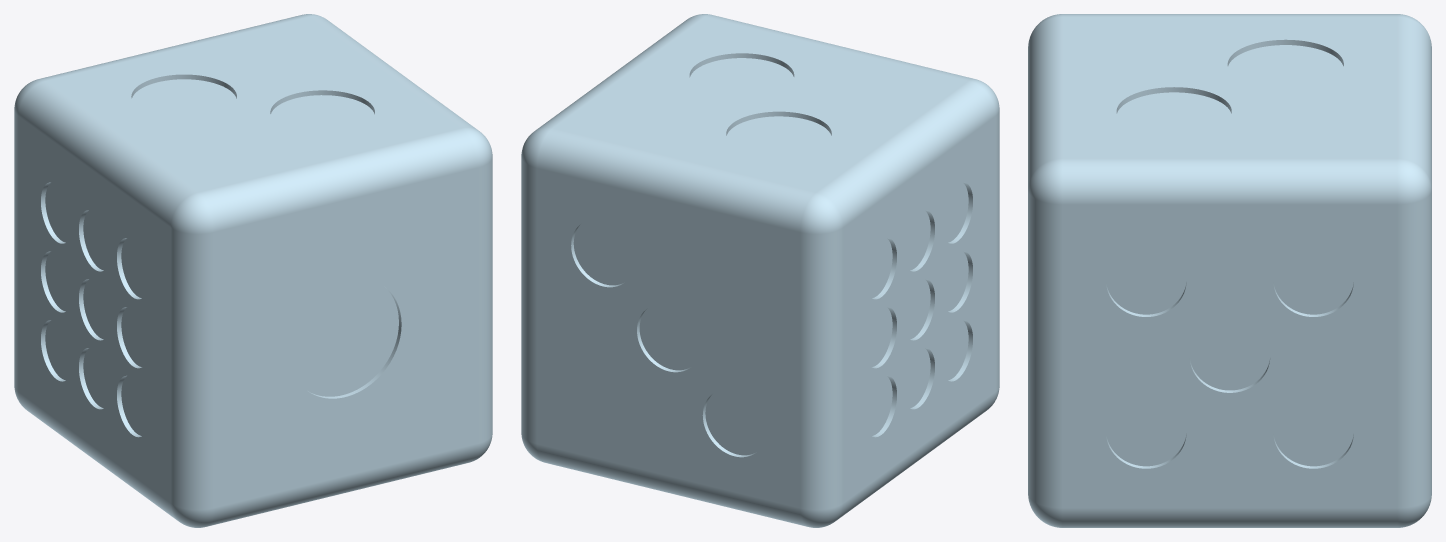
File: Dice.glb
3 views of the same model, side by side, from view 1: azimuth 30°, elevation 25°; view 2: azimuth 150°, elevation 25°; view 3: azimuth 270°, elevation 25° (orthographic). The views are drawn at different scales.
Parts seen in each view (by area): view 1: Part 1; view 2: Part 1; view 3: Part 1.
Part boxes in pixels (x1,y1,x2,y2): Part 1: (14, 14, 492, 527); Part 1: (521, 14, 999, 527); Part 1: (1028, 14, 1431, 527).
Bounding box in the file's own units: 0.0889 × 0.0889 × 0.0889.
